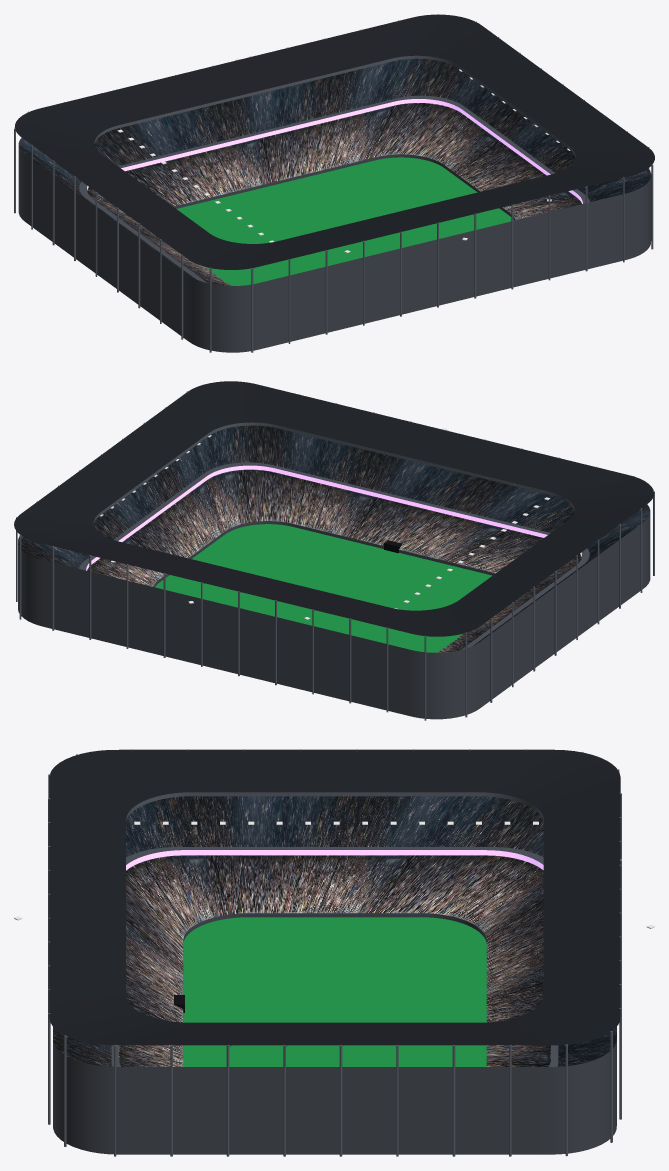
File: Arena.fbx
3 renders of one model, top to bottom at view 1: azimuth 30°, elevation 25°; view 2: azimuth 150°, elevation 25°; view 3: azimuth 270°, elevation 25°, orthographic. The views are drawn at different scales.
Visible parts, largest first — view 1: Roof, Back wall, Tier lower, Tier upper, Grass, Balcony, Ribbon, Roof edge, Pitch wall; view 2: Roof, Back wall, Tier lower, Tier upper, Grass, Balcony, Ribbon, Roof edge, Pitch wall; view 3: Roof, Back wall, Tier lower, Grass, Tier upper, Ribbon, Roof edge, Balcony, Pitch wall.
Boxes of the visible parts, left/top/right/bottom form: Roof: left=14, top=14, right=654, bottom=269; Back wall: left=18, top=137, right=651, bottom=352; Tier lower: left=87, top=103, right=581, bottom=285; Tier upper: left=19, top=58, right=650, bottom=278; Grass: left=177, top=157, right=513, bottom=285; Balcony: left=79, top=95, right=589, bottom=283; Ribbon: left=87, top=99, right=582, bottom=203; Roof edge: left=94, top=55, right=575, bottom=157; Pitch wall: left=173, top=154, right=515, bottom=220; Roof: left=14, top=381, right=654, bottom=636; Back wall: left=18, top=504, right=650, bottom=719; Tier lower: left=87, top=469, right=581, bottom=652; Tier upper: left=18, top=425, right=649, bottom=645; Grass: left=155, top=524, right=491, bottom=652; Balcony: left=79, top=462, right=589, bottom=649; Ribbon: left=86, top=465, right=581, bottom=570; Roof edge: left=93, top=422, right=574, bottom=524; Pitch wall: left=153, top=521, right=495, bottom=587; Roof: left=49, top=749, right=620, bottom=1045; Back wall: left=53, top=1039, right=616, bottom=1154; Tier lower: left=118, top=855, right=550, bottom=1066; Grass: left=183, top=917, right=486, bottom=1066; Tier upper: left=53, top=796, right=616, bottom=1066; Ribbon: left=126, top=850, right=543, bottom=870; Roof edge: left=126, top=792, right=543, bottom=824; Balcony: left=111, top=847, right=558, bottom=1066; Pitch wall: left=183, top=913, right=486, bottom=942.
Size of the model in its own units: 192 by 33.46 by 175.
